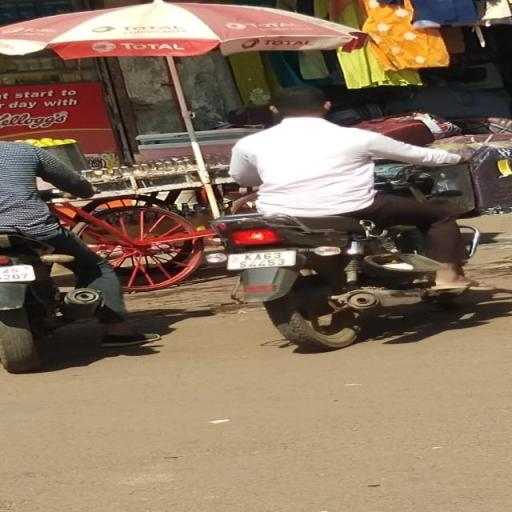bike: (207, 84, 483, 354)
numberplate: (226, 248, 295, 271)
withouthelmet: (272, 88, 331, 118)
